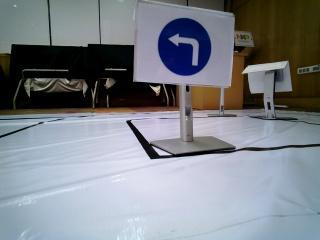left: (142, 2, 229, 86)
